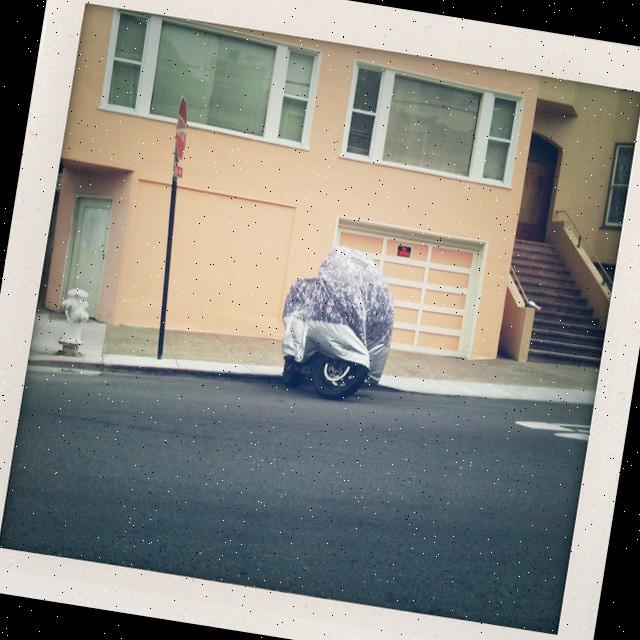fire_hydrant: (48, 286, 94, 364)
